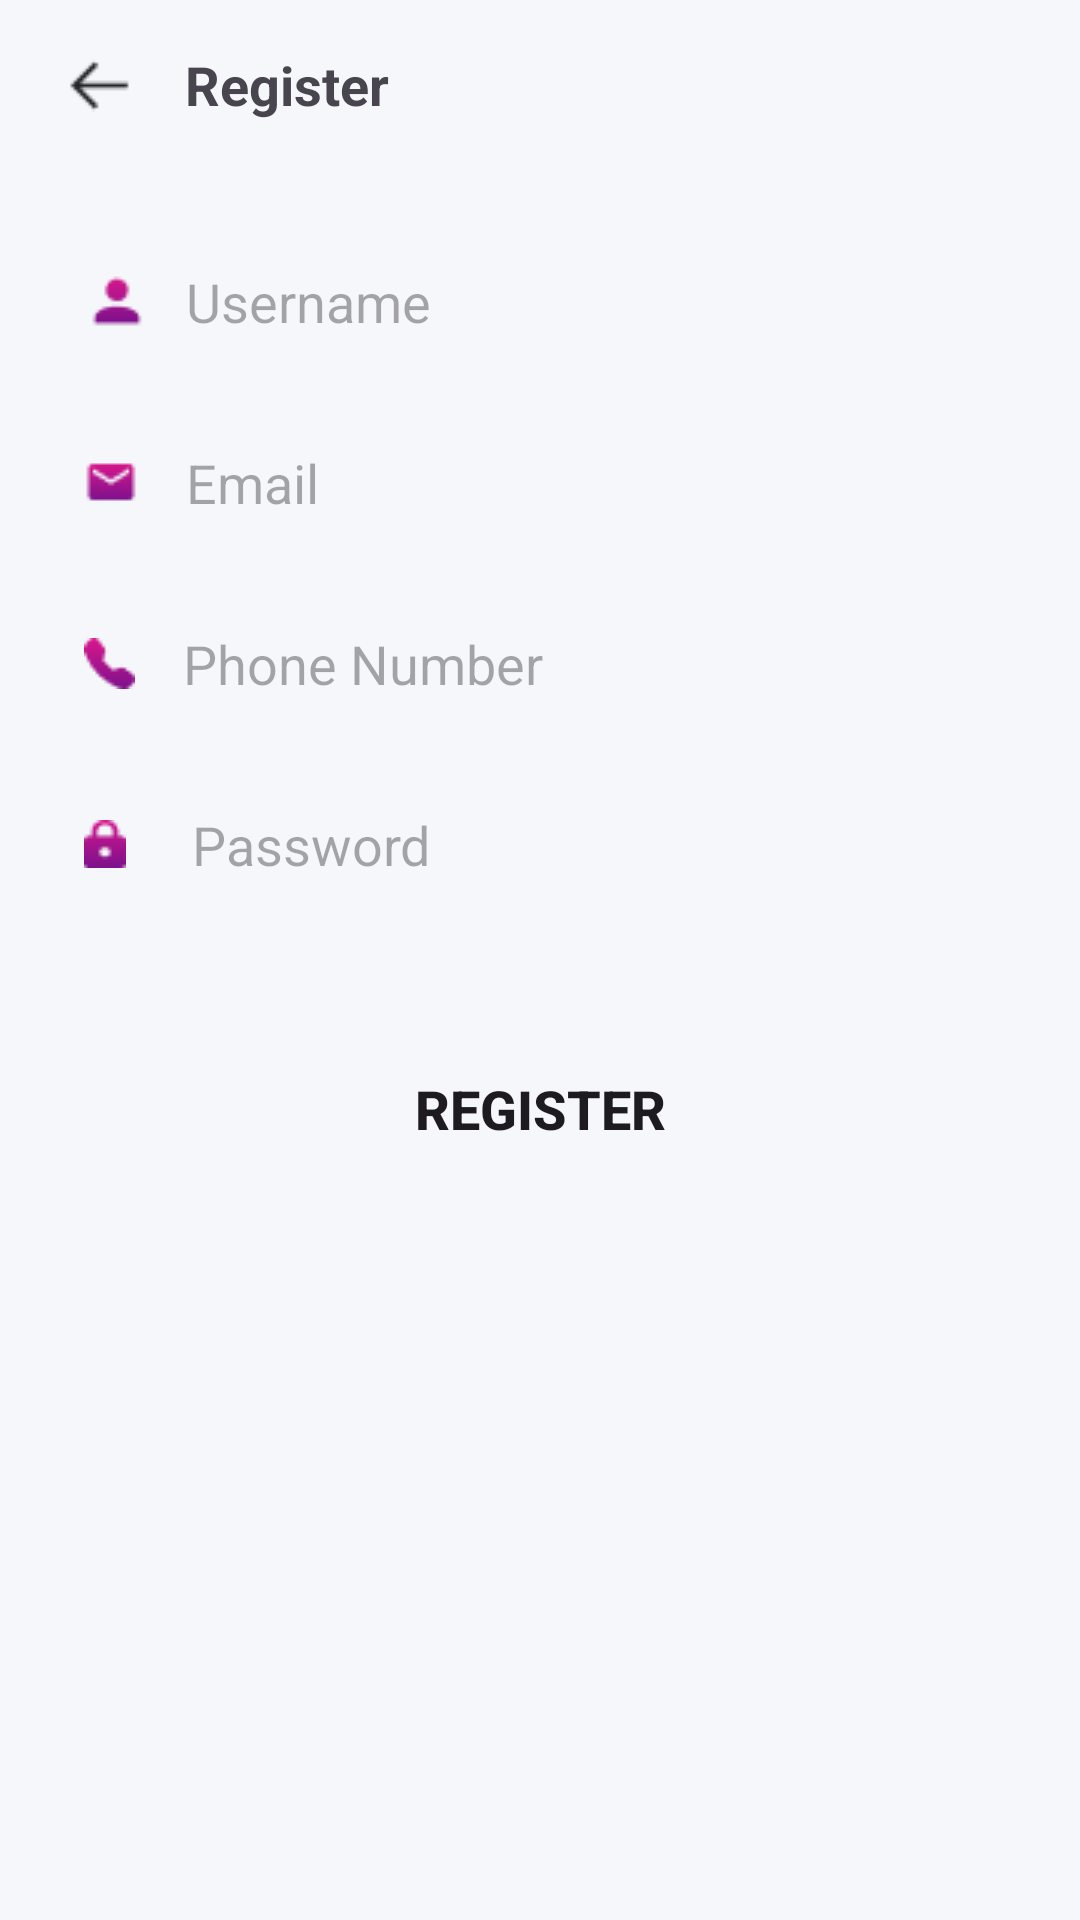

Screen size 1080 × 1920. Icon name, then its box in pixels as (x1, y1, x2, y2):
carbon arrow: (70, 62, 129, 110)
